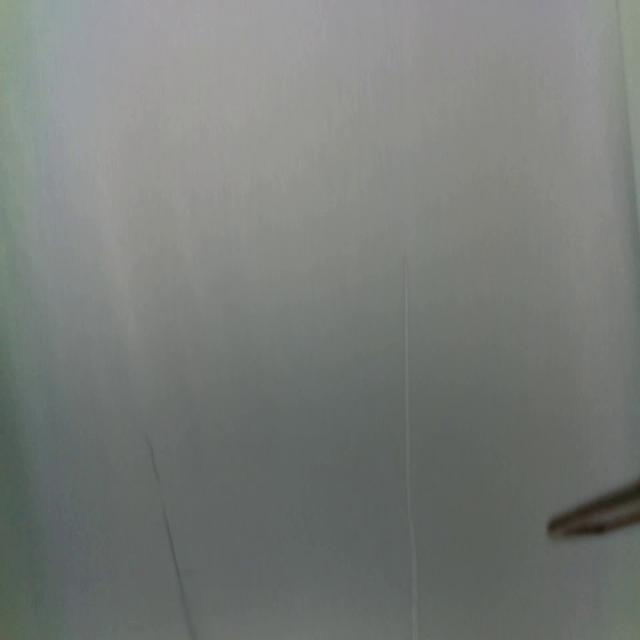crease: (144, 428, 196, 640), (403, 260, 419, 636)
